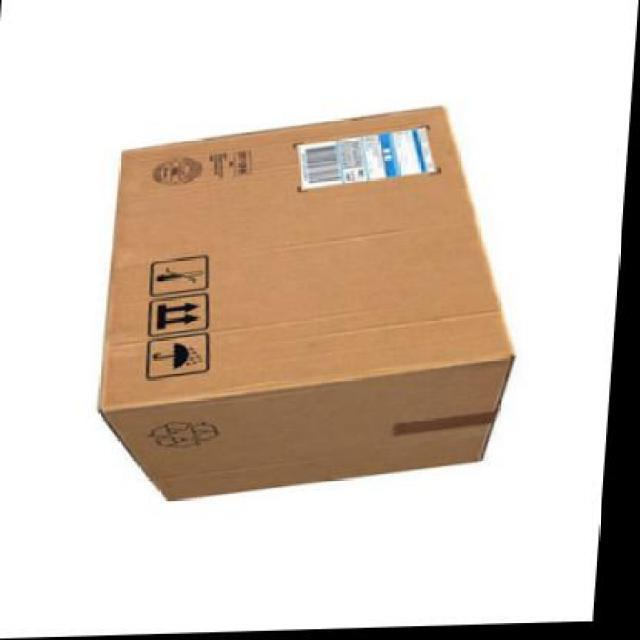box: (95, 108, 538, 502)
